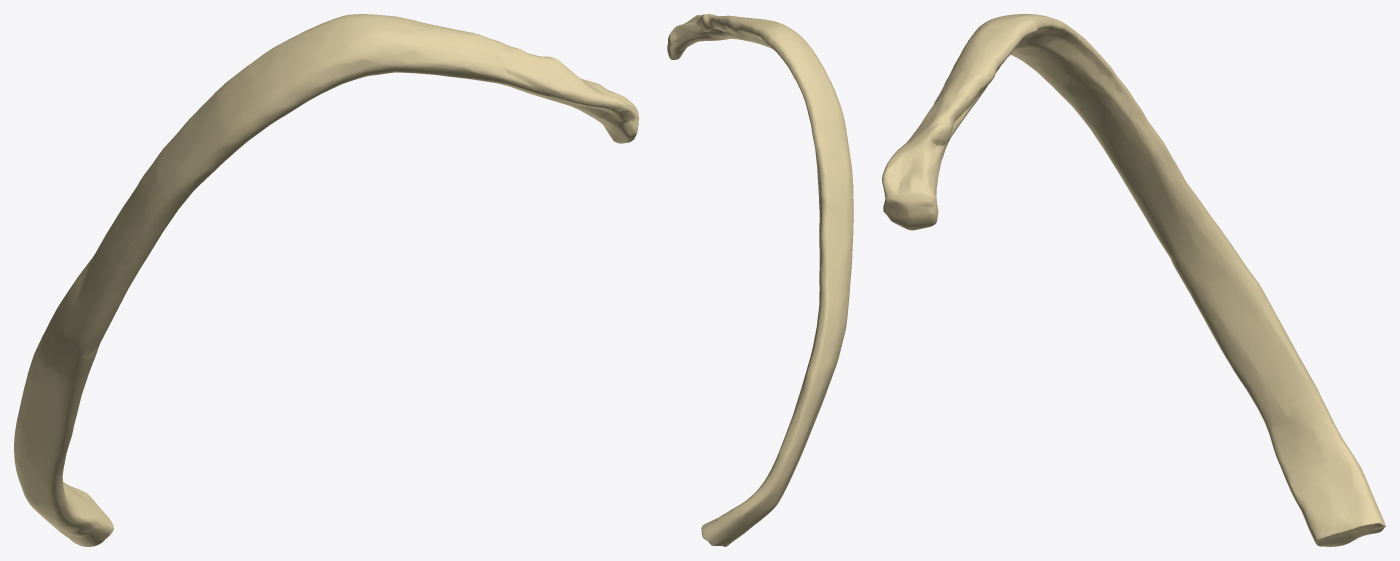
3 views of the same model, side by side, from view 1: azimuth 30°, elevation 25°; view 2: azimuth 150°, elevation 25°; view 3: azimuth 270°, elevation 25° (orthographic). The views are drawn at different scales.
Parts seen in each view (by area): view 1: 右侧第七肋; view 2: 右侧第七肋; view 3: 右侧第七肋.
Part boxes in pixels (x1,y1,x2,y2): 右侧第七肋: [14, 14, 638, 546]; 右侧第七肋: [667, 14, 853, 546]; 右侧第七肋: [882, 14, 1385, 546].
Size of the model in its own units: 0.1845 by 0.2676 by 0.2127.
